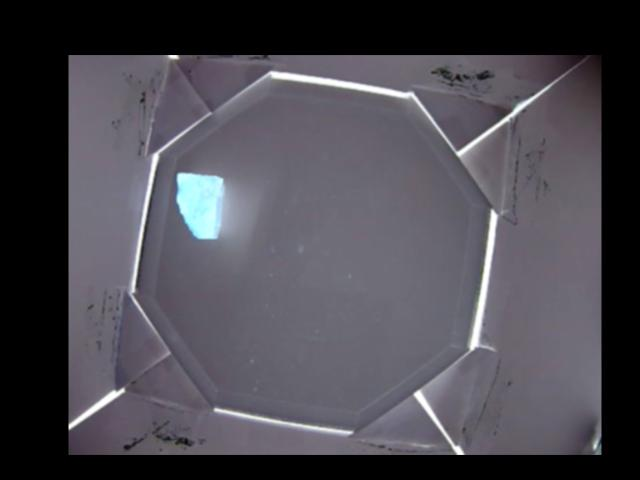Brisk: (174, 172, 225, 240)
